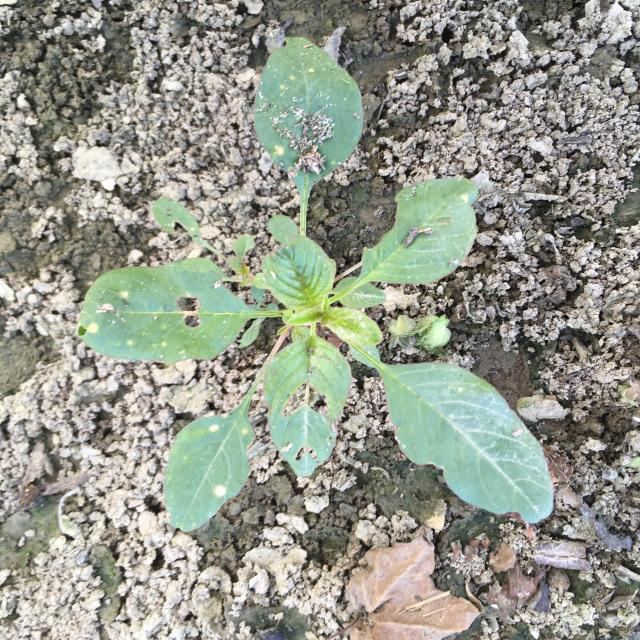PalmerAmaranth: (76, 37, 554, 532)
